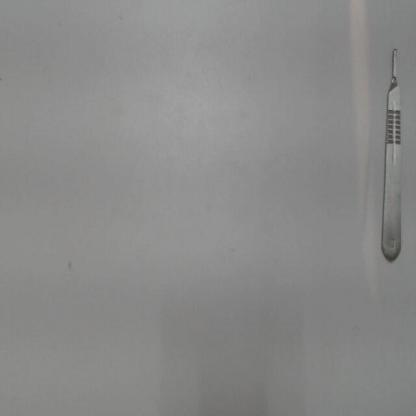No.3 BP Handle: (378, 41, 405, 273)
